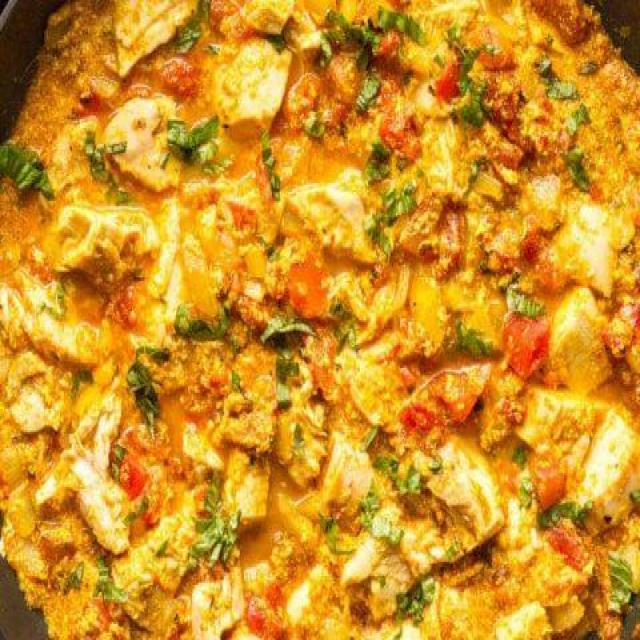chicken: (5, 1, 640, 613)
